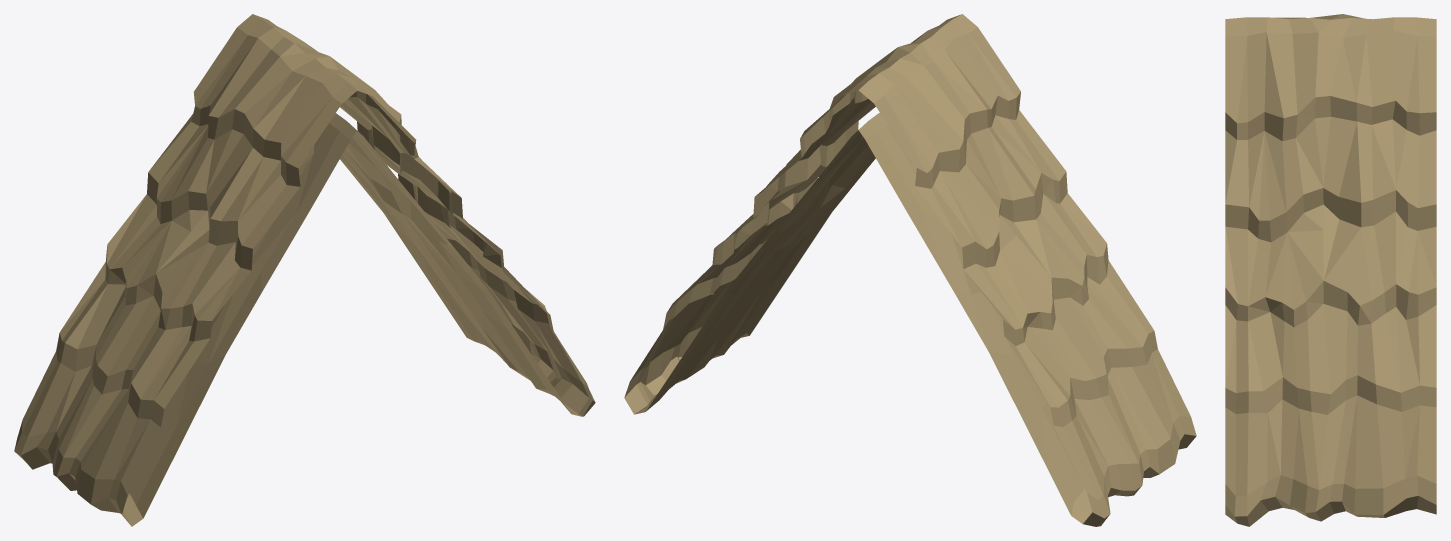
File: rpgpp_ag_roof_02a_6x5x3.fbx
3 views of the same model, side by side, from view 1: azimuth 30°, elevation 25°; view 2: azimuth 150°, elevation 25°; view 3: azimuth 270°, elevation 25° (orthographic).
Parts seen in each view (by area): view 1: rpgpp_ag_roof_02a_6x5x3; view 2: rpgpp_ag_roof_02a_6x5x3; view 3: rpgpp_ag_roof_02a_6x5x3.
Part boxes in pixels (<box>): rpgpp_ag_roof_02a_6x5x3: <box>14,14,595,526</box>; rpgpp_ag_roof_02a_6x5x3: <box>624,14,1196,526</box>; rpgpp_ag_roof_02a_6x5x3: <box>1225,14,1436,526</box>.
Bounding box in the file's own units: 8.03 × 6.2 × 3.
